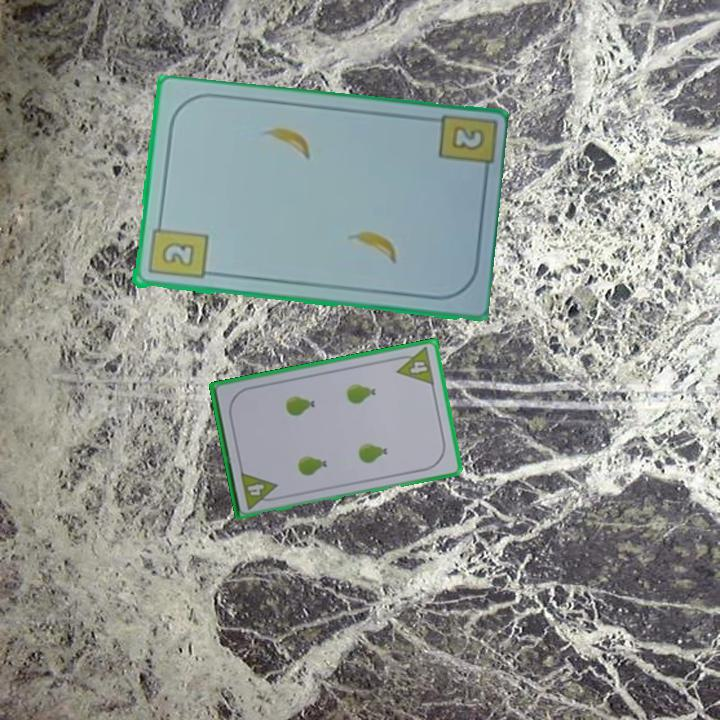2b: (144, 216, 209, 283), (447, 123, 488, 154)
4p: (391, 344, 437, 388), (237, 468, 282, 512)
